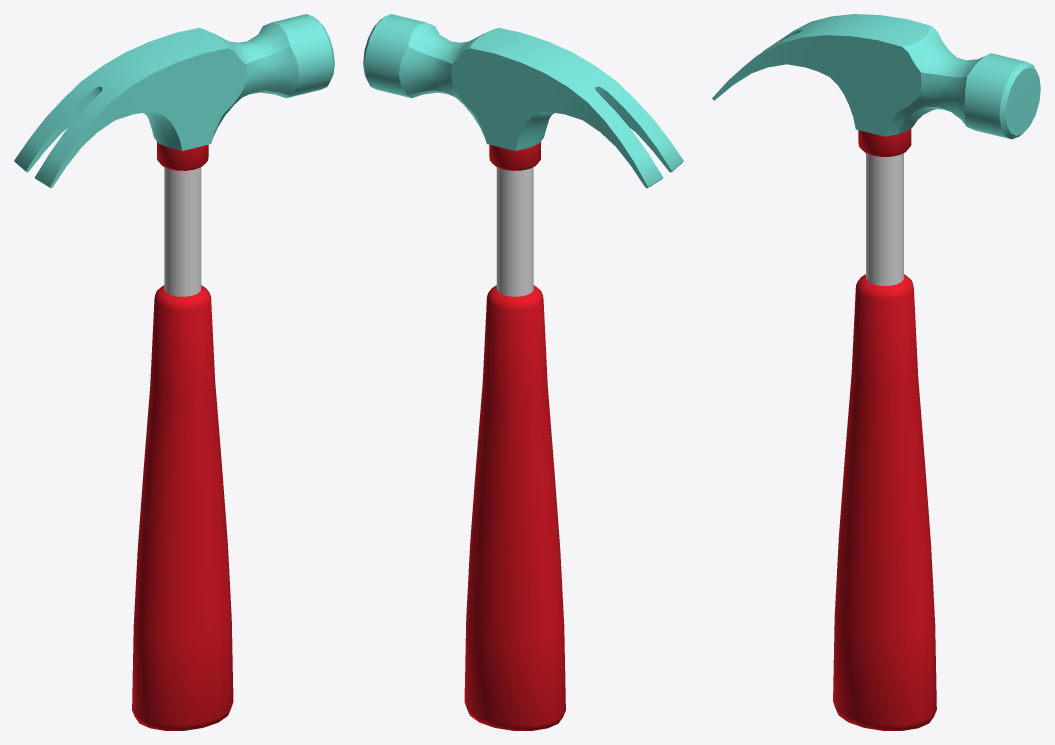
File: Weapon.fbx
3 views of the same model, side by side, from view 1: azimuth 30°, elevation 25°; view 2: azimuth 150°, elevation 25°; view 3: azimuth 330°, elevation 25° (orthographic). The views are drawn at different scales.
Visible parts, largest first — view 1: hammer; view 2: hammer; view 3: hammer.
Part boxes in pixels (<box>): hammer: <box>14,14,334,730</box>; hammer: <box>363,14,683,730</box>; hammer: <box>712,14,1040,730</box>.
Size of the model in its own units: 0.4259 by 0.9515 by 0.1135.
